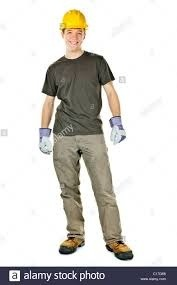helmet: (57, 10, 94, 32)
person with partial safety: (43, 8, 129, 257)
